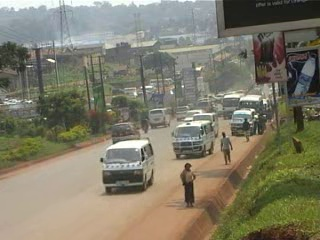Car: (110, 121, 140, 143), (174, 104, 193, 121)
Motorcycle: (141, 123, 150, 133)
